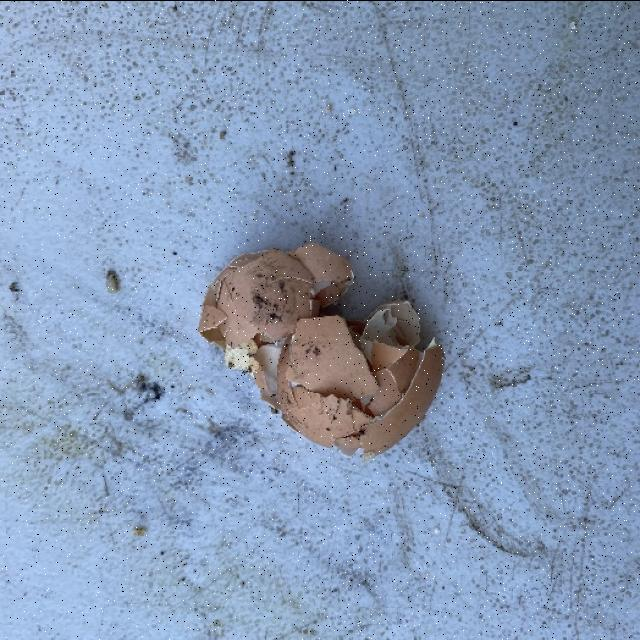organik: (204, 249, 436, 446)
